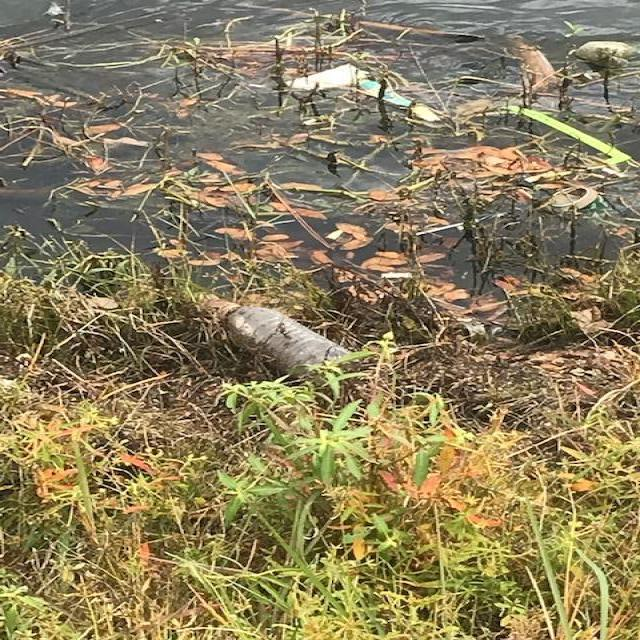litter: (196, 290, 364, 390), (513, 106, 631, 165), (276, 63, 417, 108)
